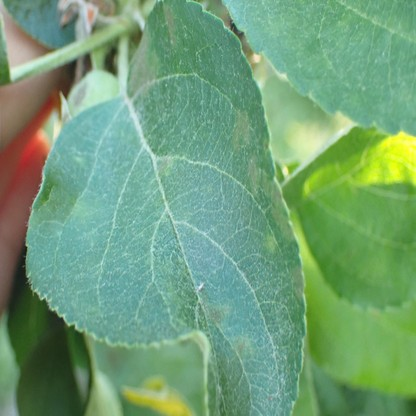powdery_mildew: (254, 267, 291, 416)
scab: (249, 159, 295, 242), (129, 27, 159, 95), (231, 112, 250, 151), (290, 268, 305, 310), (206, 302, 234, 323), (165, 4, 179, 44), (232, 337, 250, 361), (157, 155, 171, 178)
